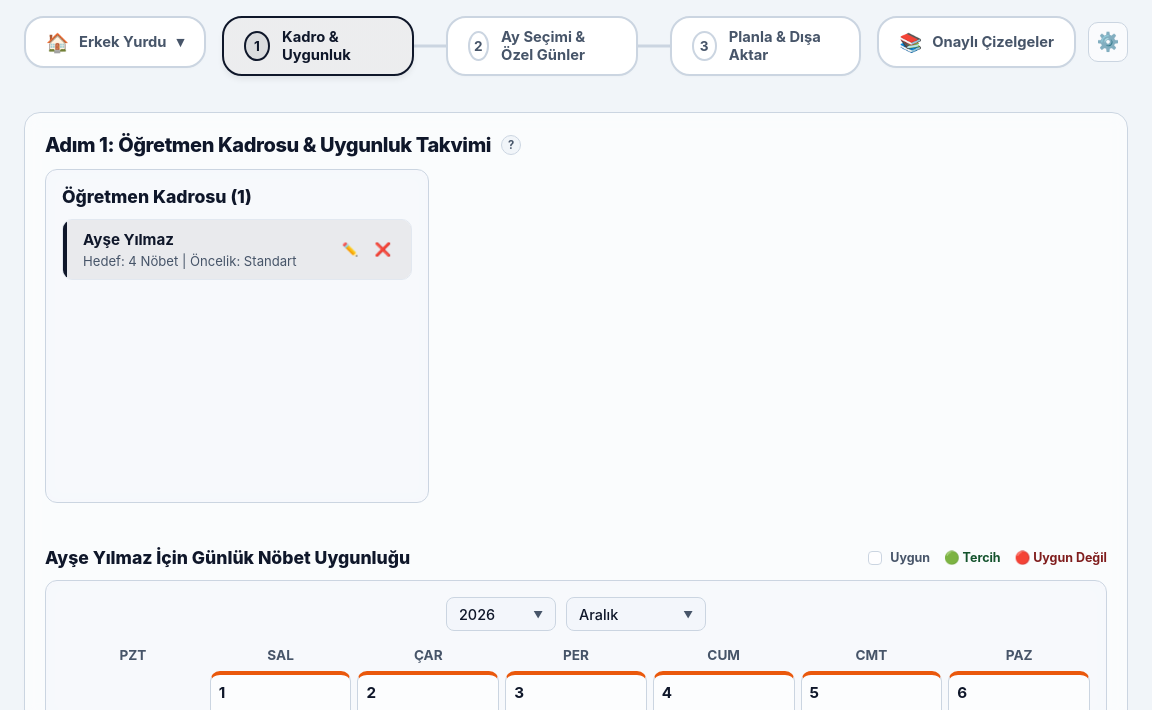
Test: working on a post's month › names the post on steps 2 and 3
This screenshot has width=1152, height=710.
Expected: the heading "Öğretmen Kadrosu (1)" is shown, [62,186,252,207]
Click the text "Ay Seçimi & Özel Günler" at (543, 46), box [501,28,585,64]
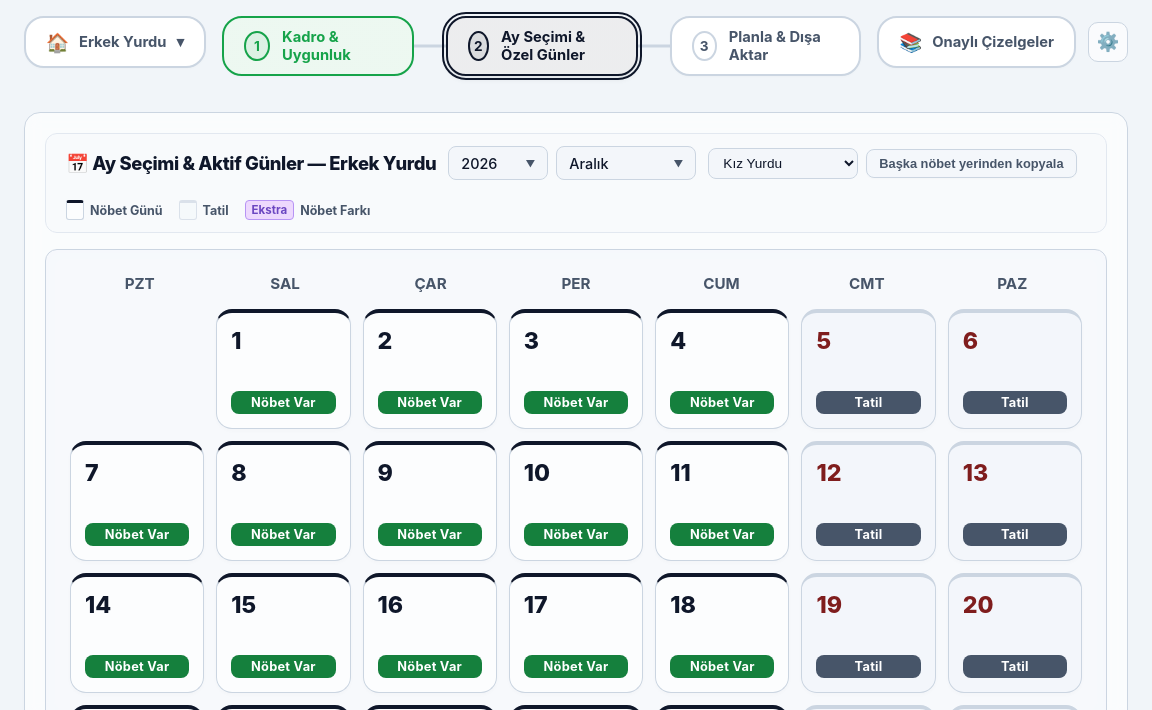
Result: the heading "📅 Ay Seçimi & Aktif Günler — Erkek Yurdu" is shown at [66,152,436,174]
Click the text "Planla & Dışa Aktar" at (775, 46), box [729,28,821,64]
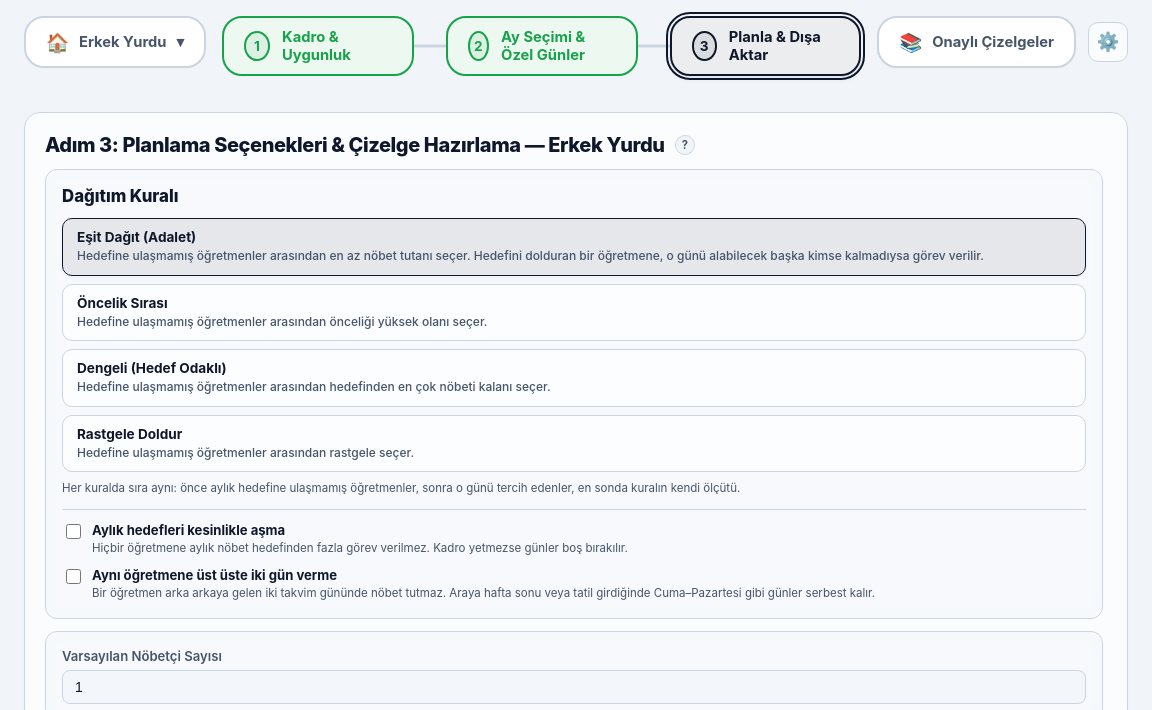
Result: the 1st heading is shown at [45,133,695,157]
